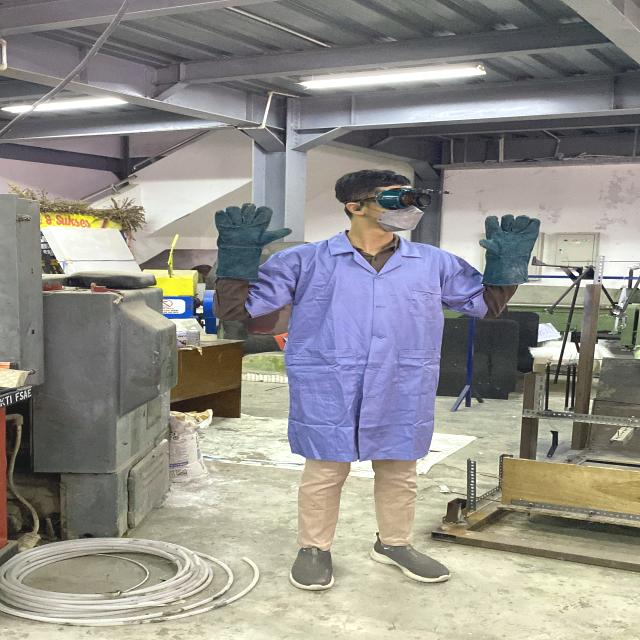face_mask: (362, 184, 435, 232)
glasses: (336, 183, 456, 212)
hand_glove: (202, 199, 301, 257), (474, 211, 551, 264)
head_nohelmet: (330, 166, 420, 197)
person: (195, 160, 561, 605)
shoes: (354, 535, 454, 587), (276, 535, 344, 597)
